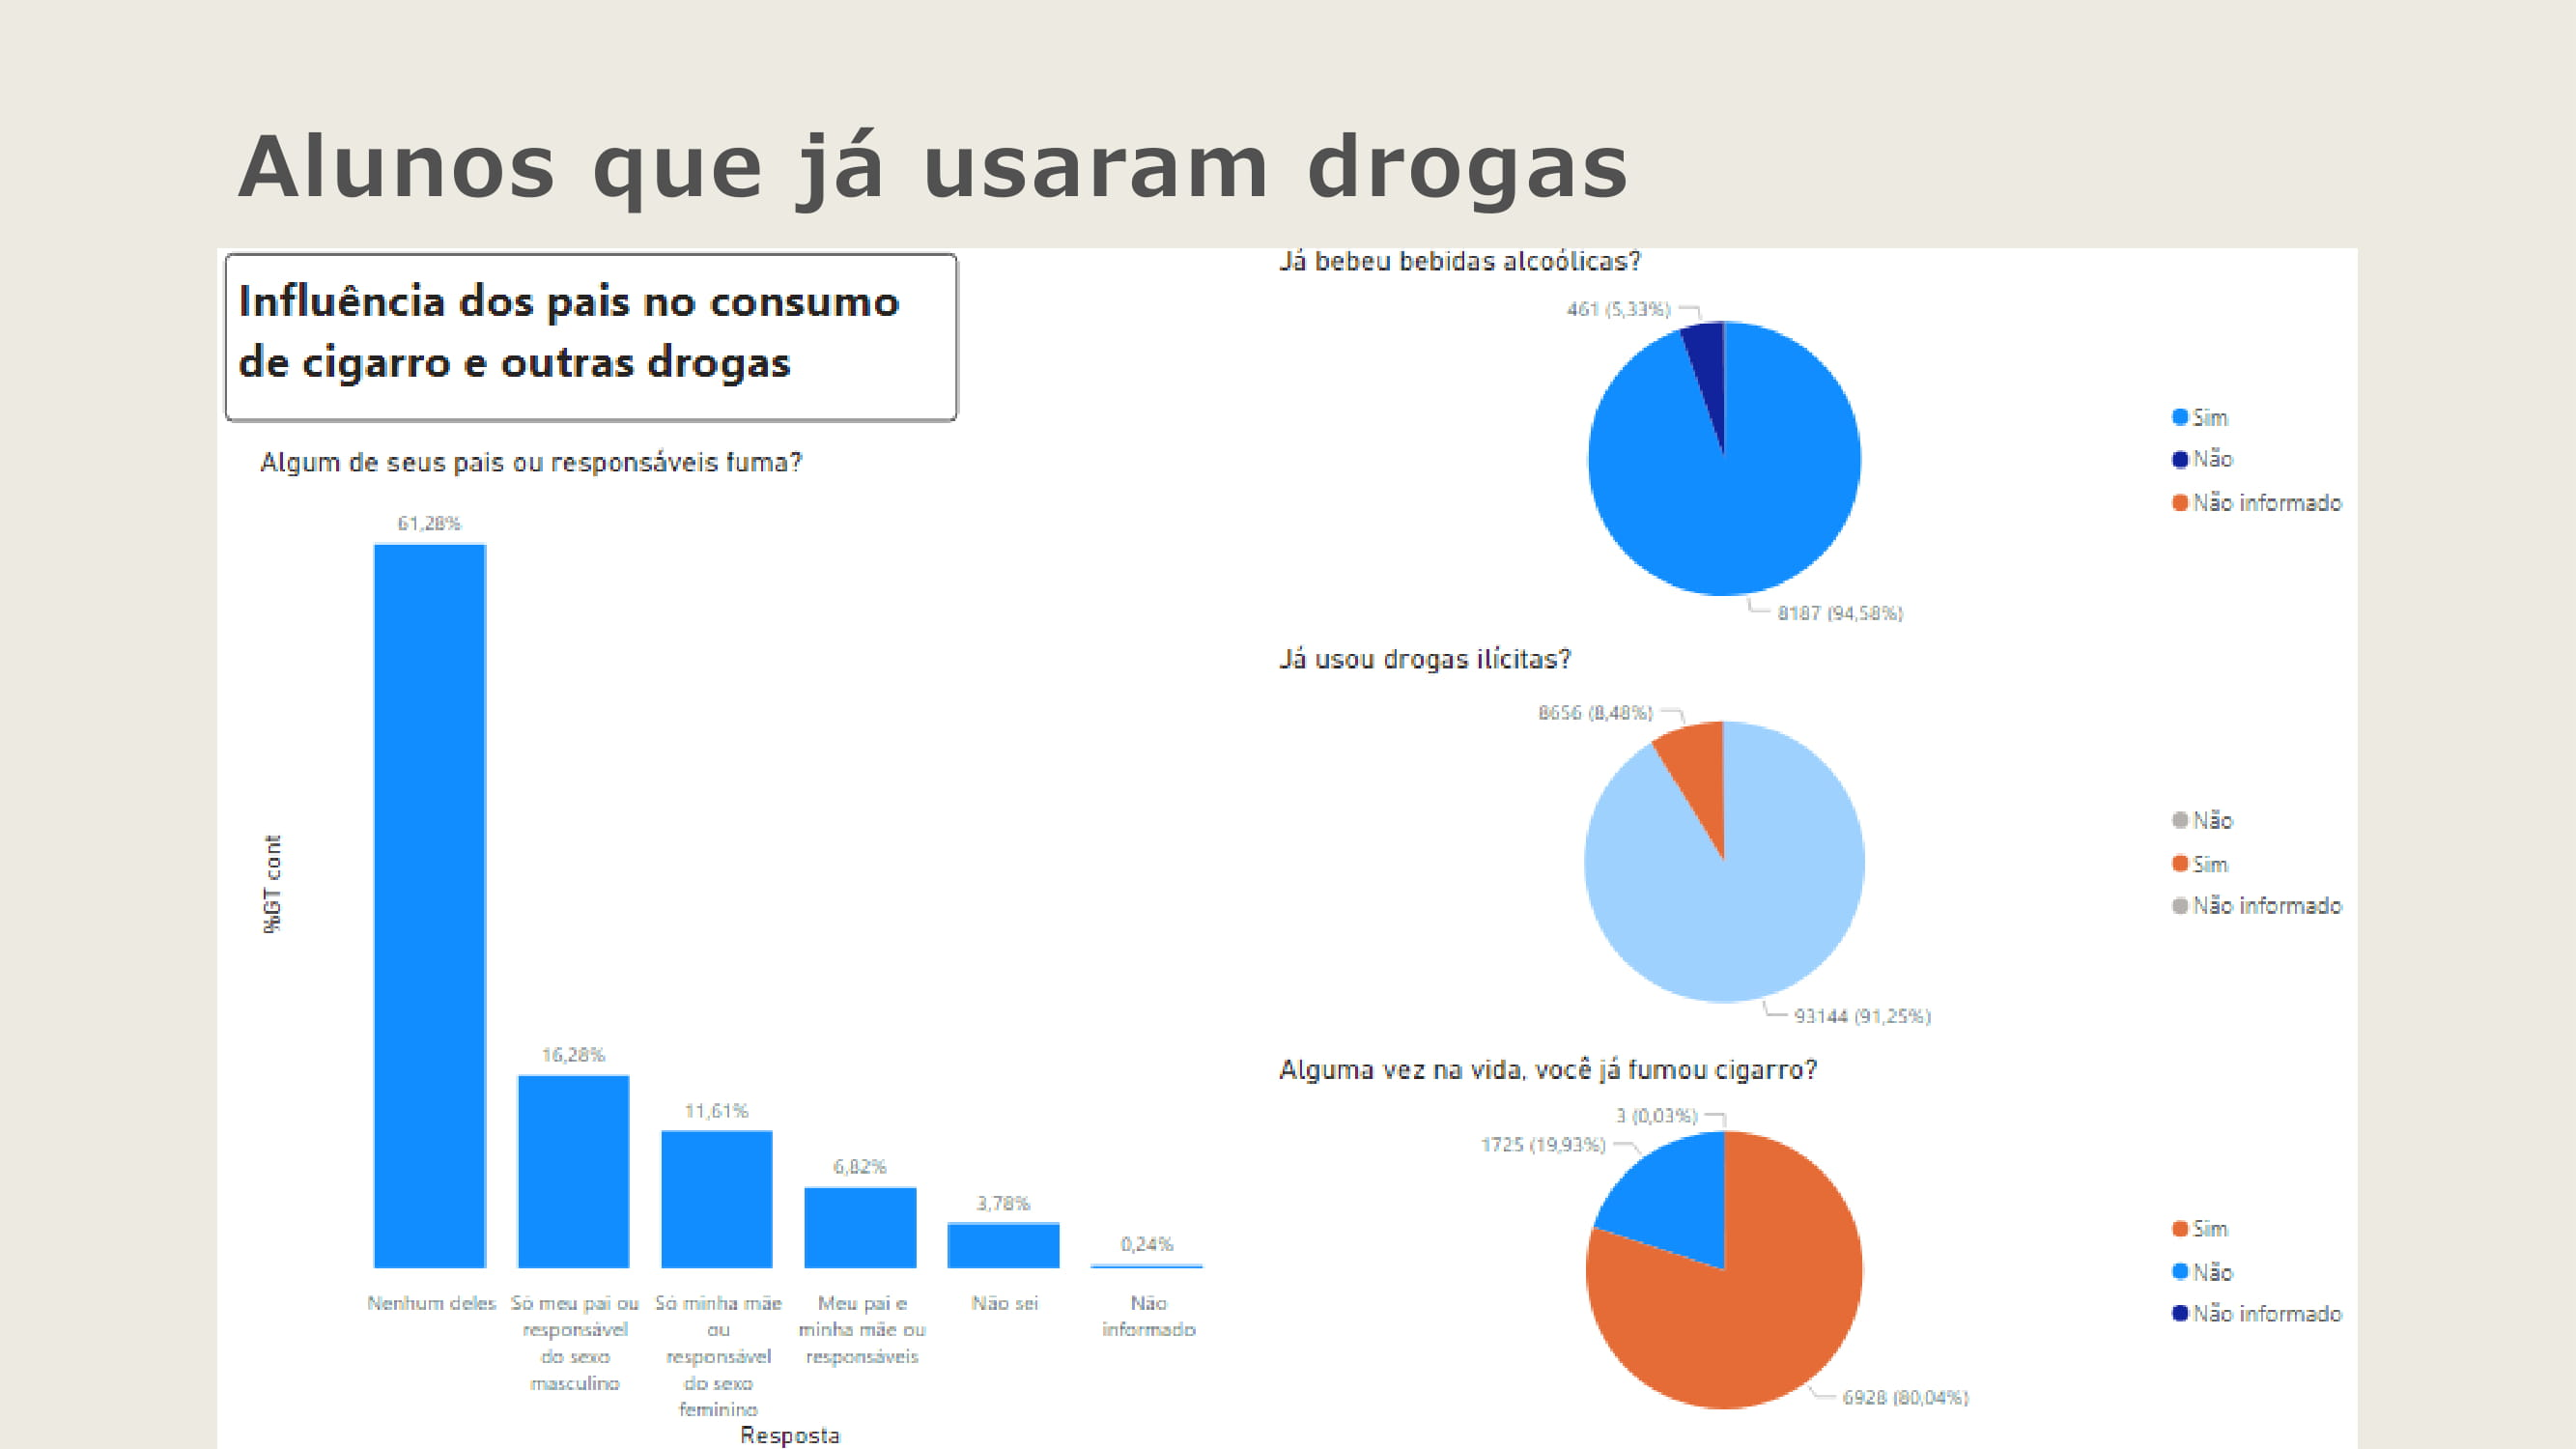

This screenshot's page, from the dashboard's own definition file:
{"tool":"powerbi","page":{"name":"Pais drogas","canvas":[1280,720],"ordinal":0},"visuals":[{"type":"clusteredColumnChart","title":"Algum de seus pais ou responsáveis fuma?","fields":{"Y":["Sum(Respotas_Questionario.cont)"],"Category":["P_Algum de seus pais ou responsáveis fuma?.Resposta"]},"box":[21.1,119.2,606.8,600.8],"z":0},{"type":"pieChart","title":"Alguma vez na vida, você já fumou cigarro?","fields":{"Category":["P_Já fumou cigarro?.Resposta"],"Y":["Sum(Respotas_Questionario.cont)"]},"box":[627.9,480,652.1,240],"z":1000},{"type":"textbox","box":[5.8,5.8,435.8,99.6],"z":2000},{"type":"pieChart","title":"Já bebeu bebidas alcoólicas?","fields":{"Y":["Sum(Respotas_Questionario.cont)"],"Category":["P_Já usou álcool?.Resposta"]},"box":[627.9,0,652.1,237],"z":3000},{"type":"pieChart","title":"Já usou drogas ilícitas?","fields":{"Category":["P_Já usou drogas ilícitas?.Resposta"],"Y":["Sum(Respotas_Questionario.cont)"]},"box":[627.9,237,652.1,243],"z":4000}]}

Visuals, with their boxes in screenshot pixels (x1, y1, x2, y2), scaled from the page's 1280x720 canvas onto the 2576x1449 screenshot:
"Algum de seus pais ou responsáveis fuma?" clusteredColumnChart: Rect(42, 240, 1263, 1448)
"Alguma vez na vida, você já fumou cigarro?" pieChart: Rect(1263, 966, 2575, 1448)
textbox: Rect(12, 12, 889, 213)
"Já bebeu bebidas alcoólicas?" pieChart: Rect(1263, 0, 2575, 477)
"Já usou drogas ilícitas?" pieChart: Rect(1263, 477, 2575, 966)
